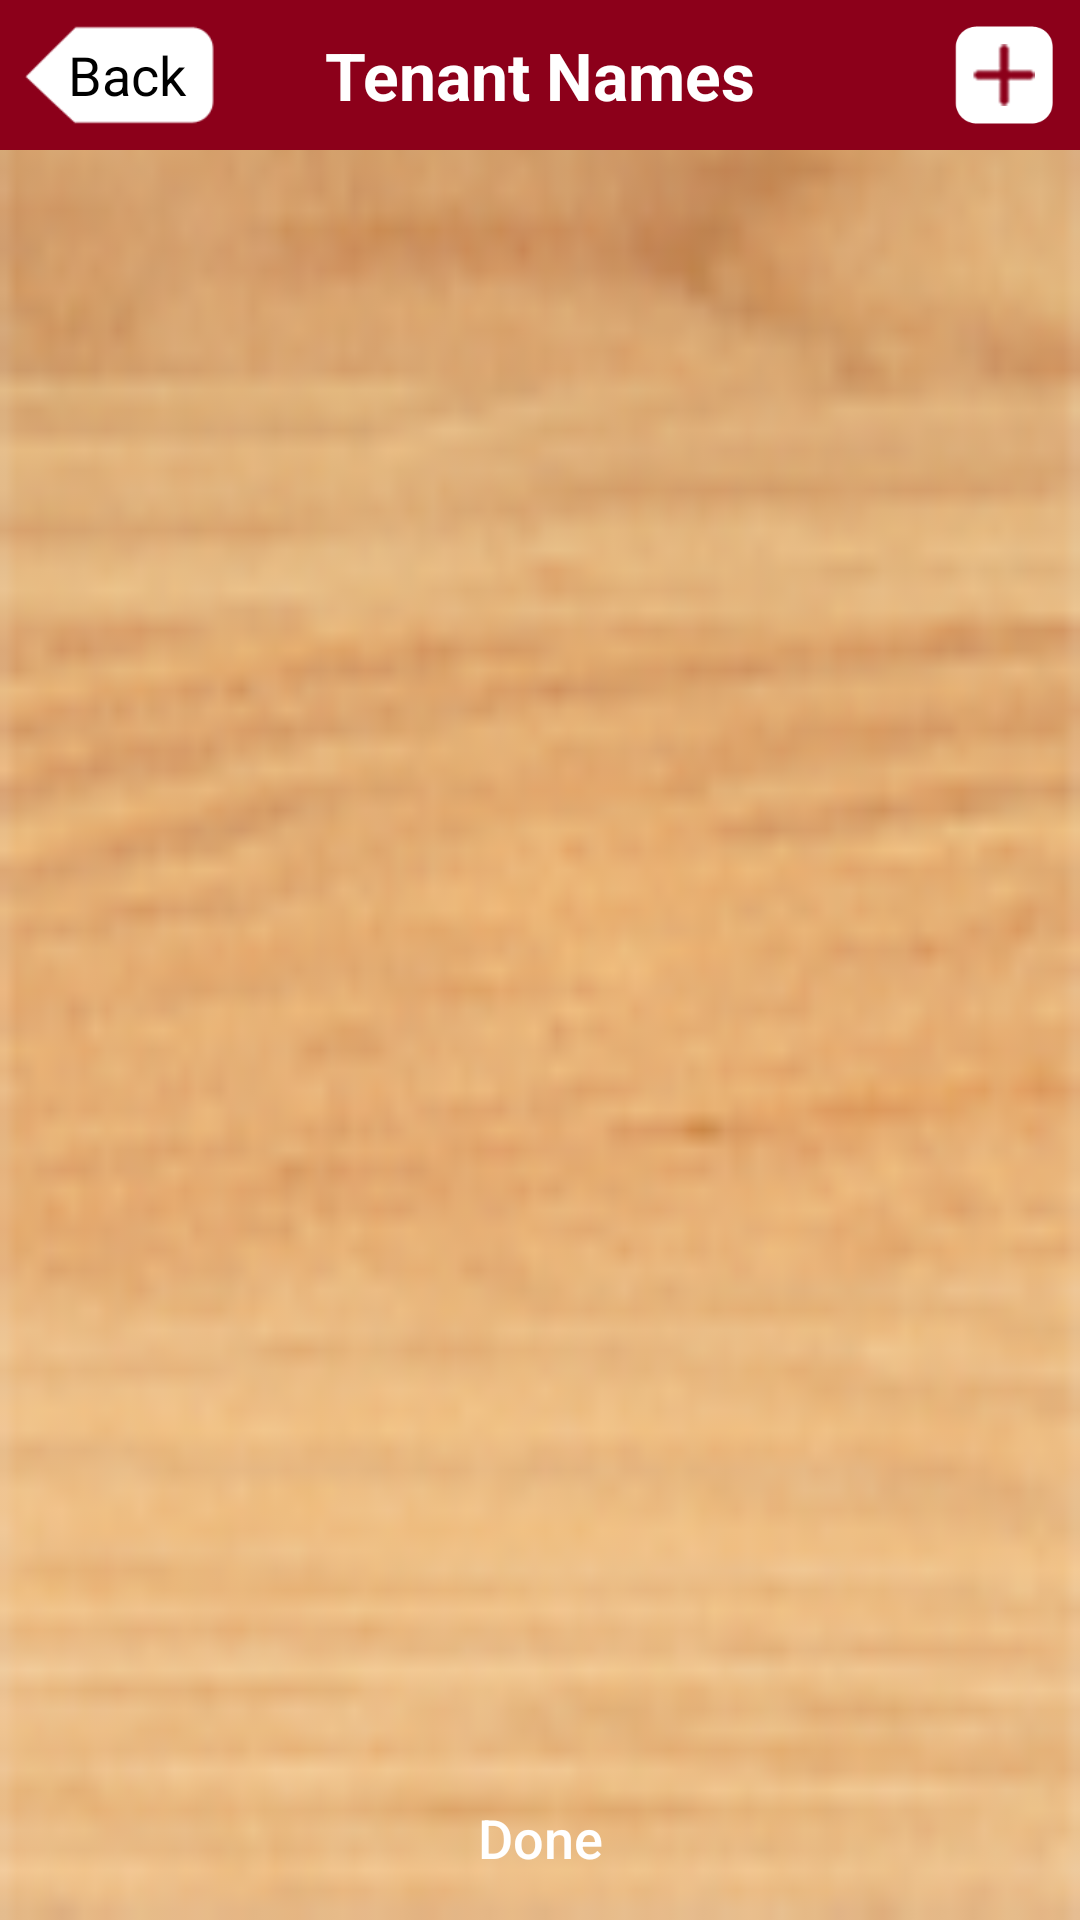

Screen size 1080w x 1920h. Icon name, then its box in pixels as bbox=(x1, y1, x2, y2):
plus: bbox=(955, 26, 1053, 124)
